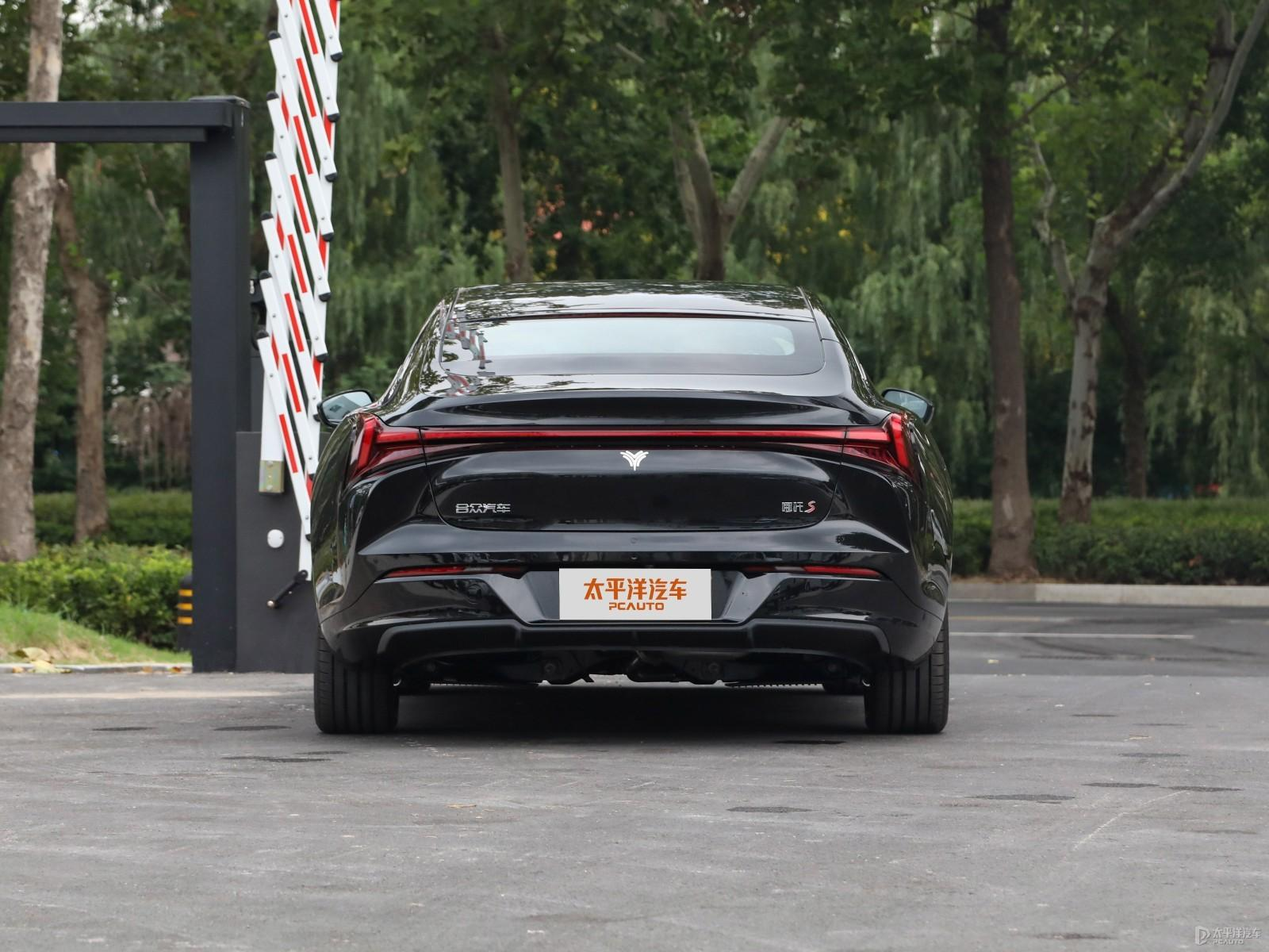NETA: (619, 450, 650, 471)
